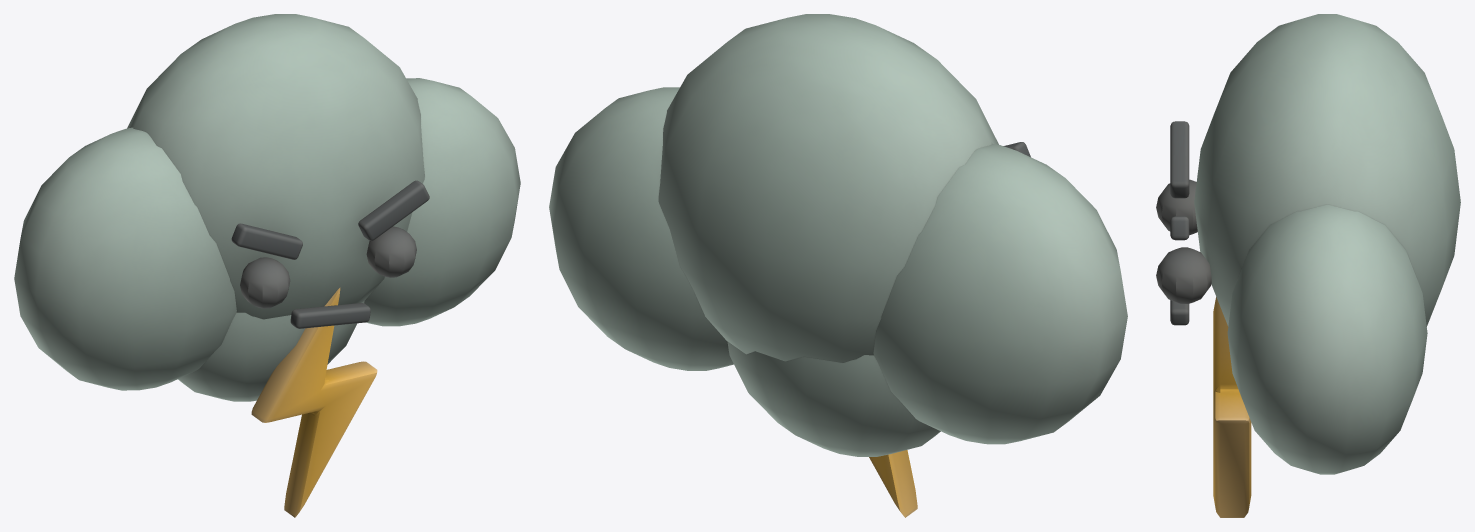
File: AngryCloud.fbx
3 views of the same model, side by side, from view 1: azimuth 30°, elevation 25°; view 2: azimuth 150°, elevation 25°; view 3: azimuth 270°, elevation 25° (orthographic). The views are drawn at different scales.
Parts seen in each view (by area): view 1: AngryCloud; view 2: AngryCloud; view 3: AngryCloud.
Part boxes in pixels (bbox=[...]): AngryCloud: bbox=[14, 14, 520, 517]; AngryCloud: bbox=[549, 14, 1127, 517]; AngryCloud: bbox=[1156, 14, 1460, 517].
Bounding box in the file's own units: 130 × 116 × 64.
